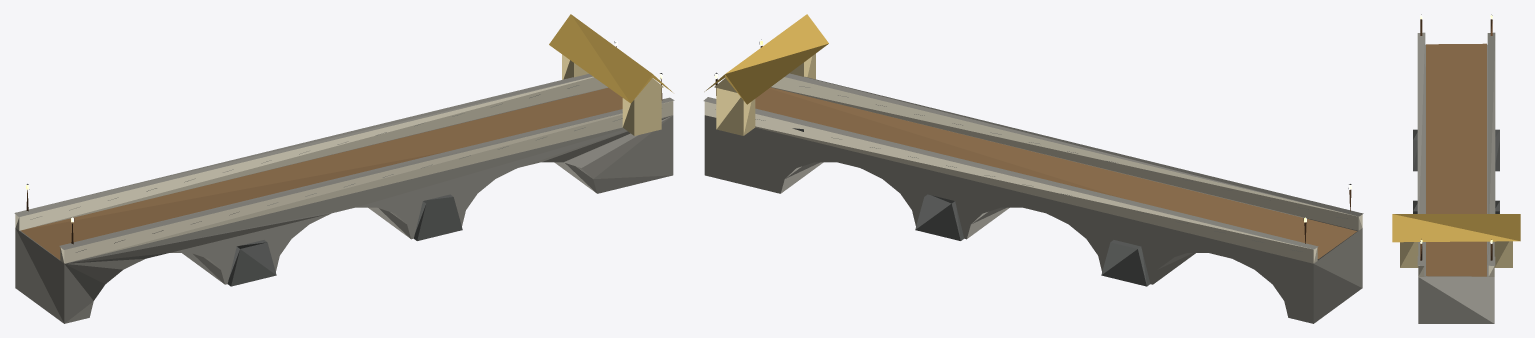
Rendered from bridge_brandywine_lod1.glb.
The picture shows the model from 3 angles, left to right: view 1: azimuth 30°, elevation 25°; view 2: azimuth 150°, elevation 25°; view 3: azimuth 270°, elevation 25°; orthographic projection. The views are drawn at different scales.
Parts seen in each view (by area): view 1: bridge_brandywine_lod1; view 2: bridge_brandywine_lod1; view 3: bridge_brandywine_lod1.
Boxes of the visible parts, <box> form: bridge_brandywine_lod1: <box>14,14,674,323</box>; bridge_brandywine_lod1: <box>703,14,1363,323</box>; bridge_brandywine_lod1: <box>1392,14,1520,323</box>.
Bounding box in the file's own units: 36.1 × 6.92 × 8.4.
